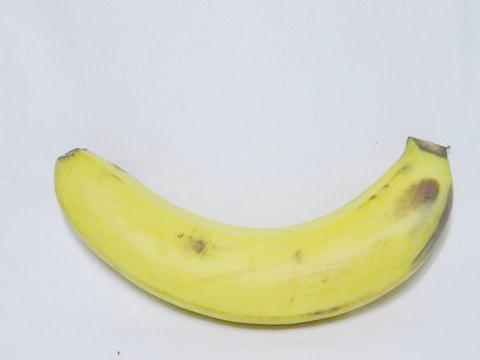freshripe: (40, 113, 466, 334)
